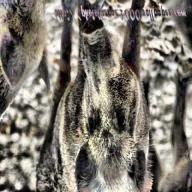boar: (18, 0, 177, 192)
